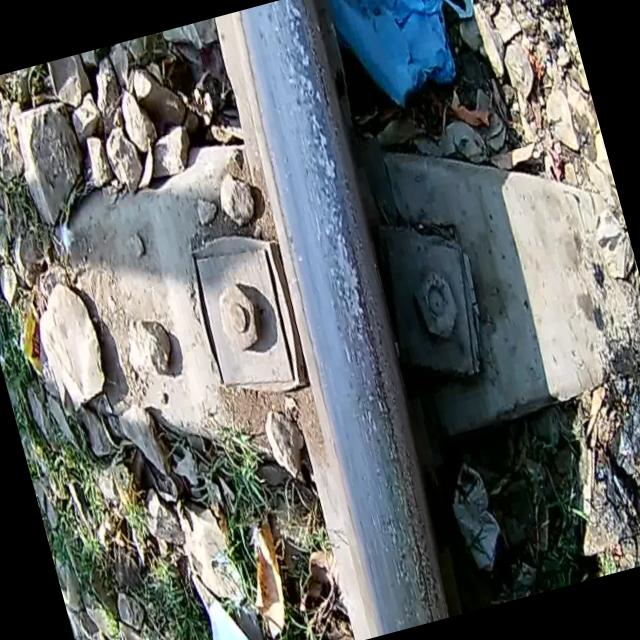Flakings: (235, 0, 471, 629)
